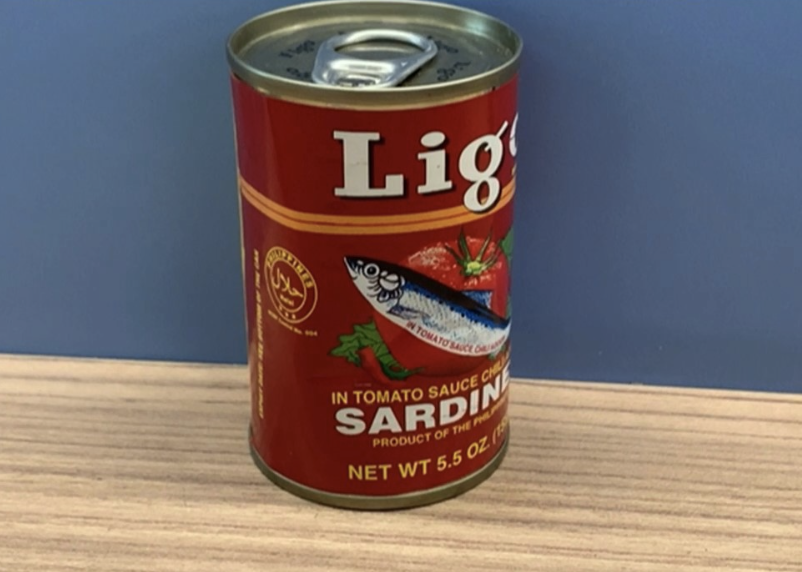sardines_100g-199g: (247, 48, 511, 481)
